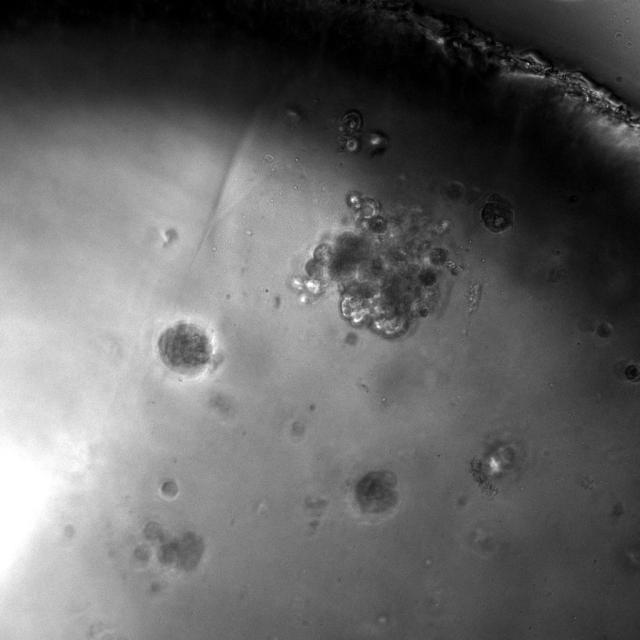organoid: (294, 190, 462, 339), (132, 520, 204, 594), (157, 321, 213, 374), (354, 470, 397, 512), (481, 194, 514, 232), (338, 110, 363, 153), (159, 479, 178, 500)
